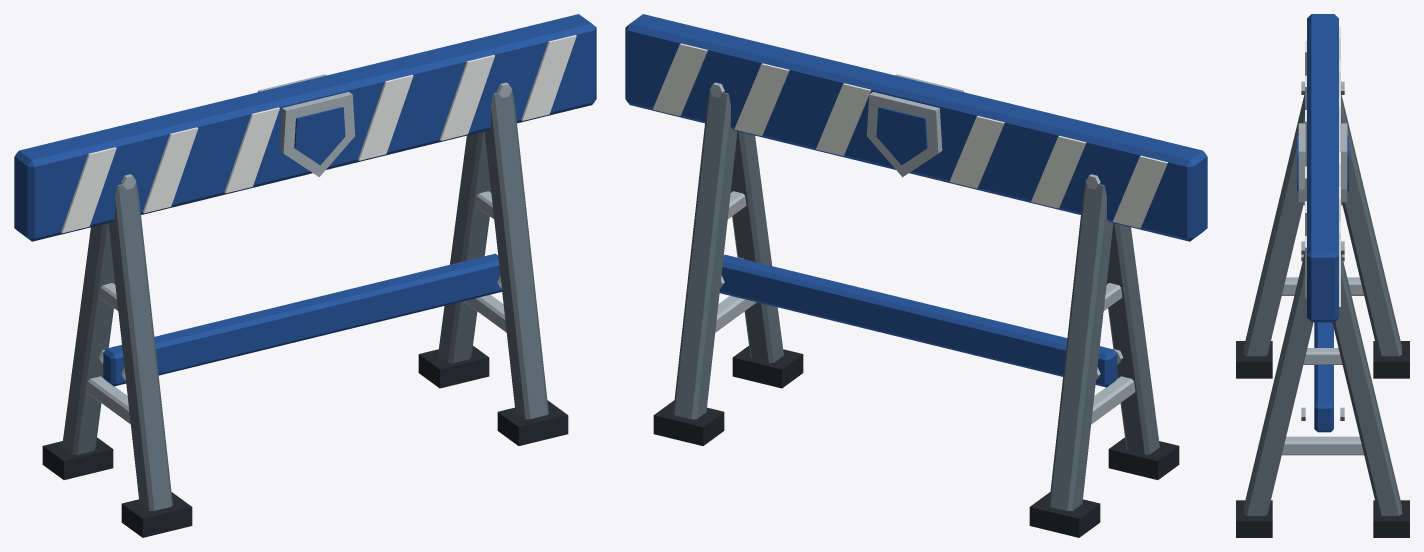
File: nypd_sawhorse_barricade.fbx
3 renders of one model, left to right at view 1: azimuth 30°, elevation 25°; view 2: azimuth 150°, elevation 25°; view 3: azimuth 270°, elevation 25°, orthographic. The views are drawn at different scales.
Parts seen in each view (by area): view 1: nypd_sawhorse_barricade; view 2: nypd_sawhorse_barricade; view 3: nypd_sawhorse_barricade.
Boxes of the visible parts, x1,y1,x2,y2 form: nypd_sawhorse_barricade: (14, 14, 596, 537); nypd_sawhorse_barricade: (625, 14, 1207, 537); nypd_sawhorse_barricade: (1236, 14, 1409, 537).
Size of the model in its own units: 460 by 280 by 140.
